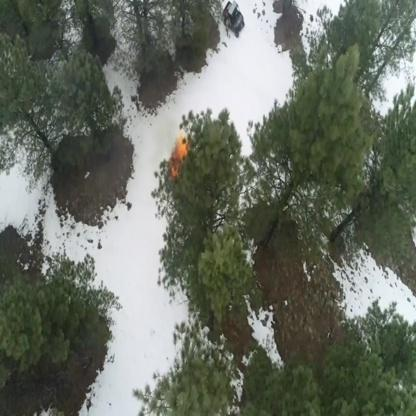Fire: (168, 132, 189, 181)
